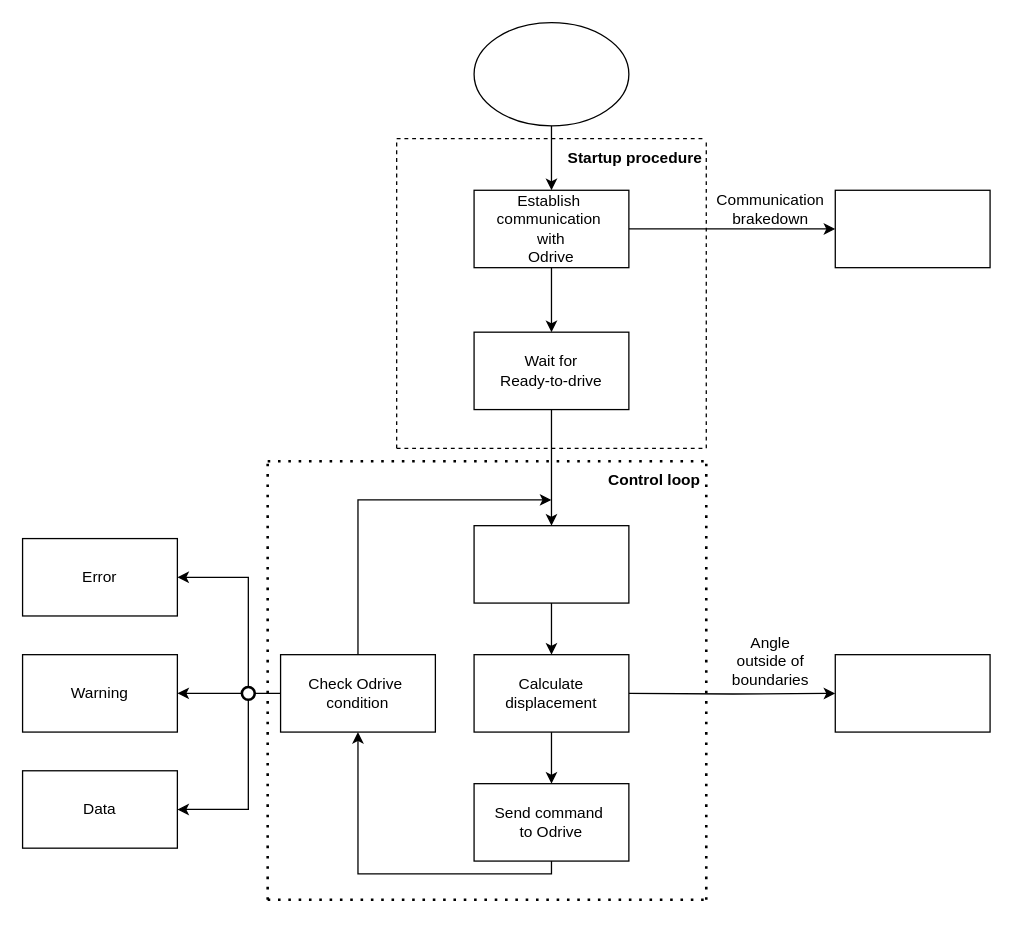
Image size: 1013x925. Some labels were removed from this diagram. The shapes that lost their labels are listed below. From the top down, each one's centre as x and y in pixels, then its label:
the point at 551,73: Start
the point at 912,228: Set Error
the point at 551,563: Get desired steering angle
the point at 912,692: Set Warning, and angle as max value
